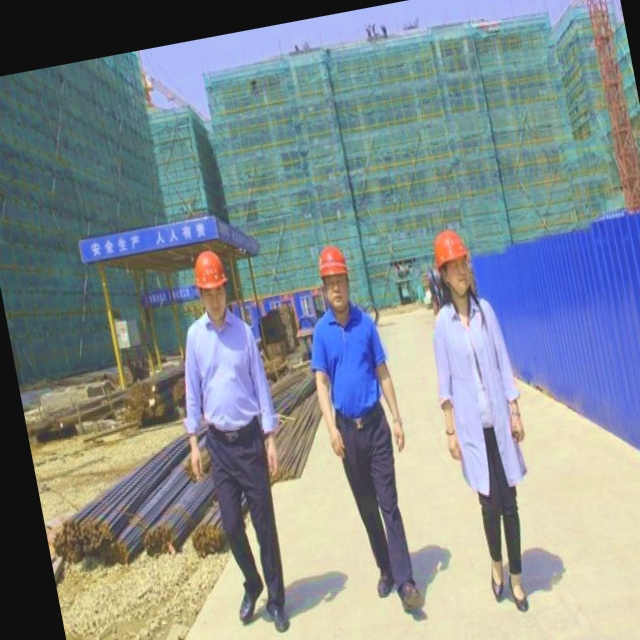Con_Casco: (429, 228, 475, 302), (191, 246, 234, 322), (315, 244, 355, 315)
